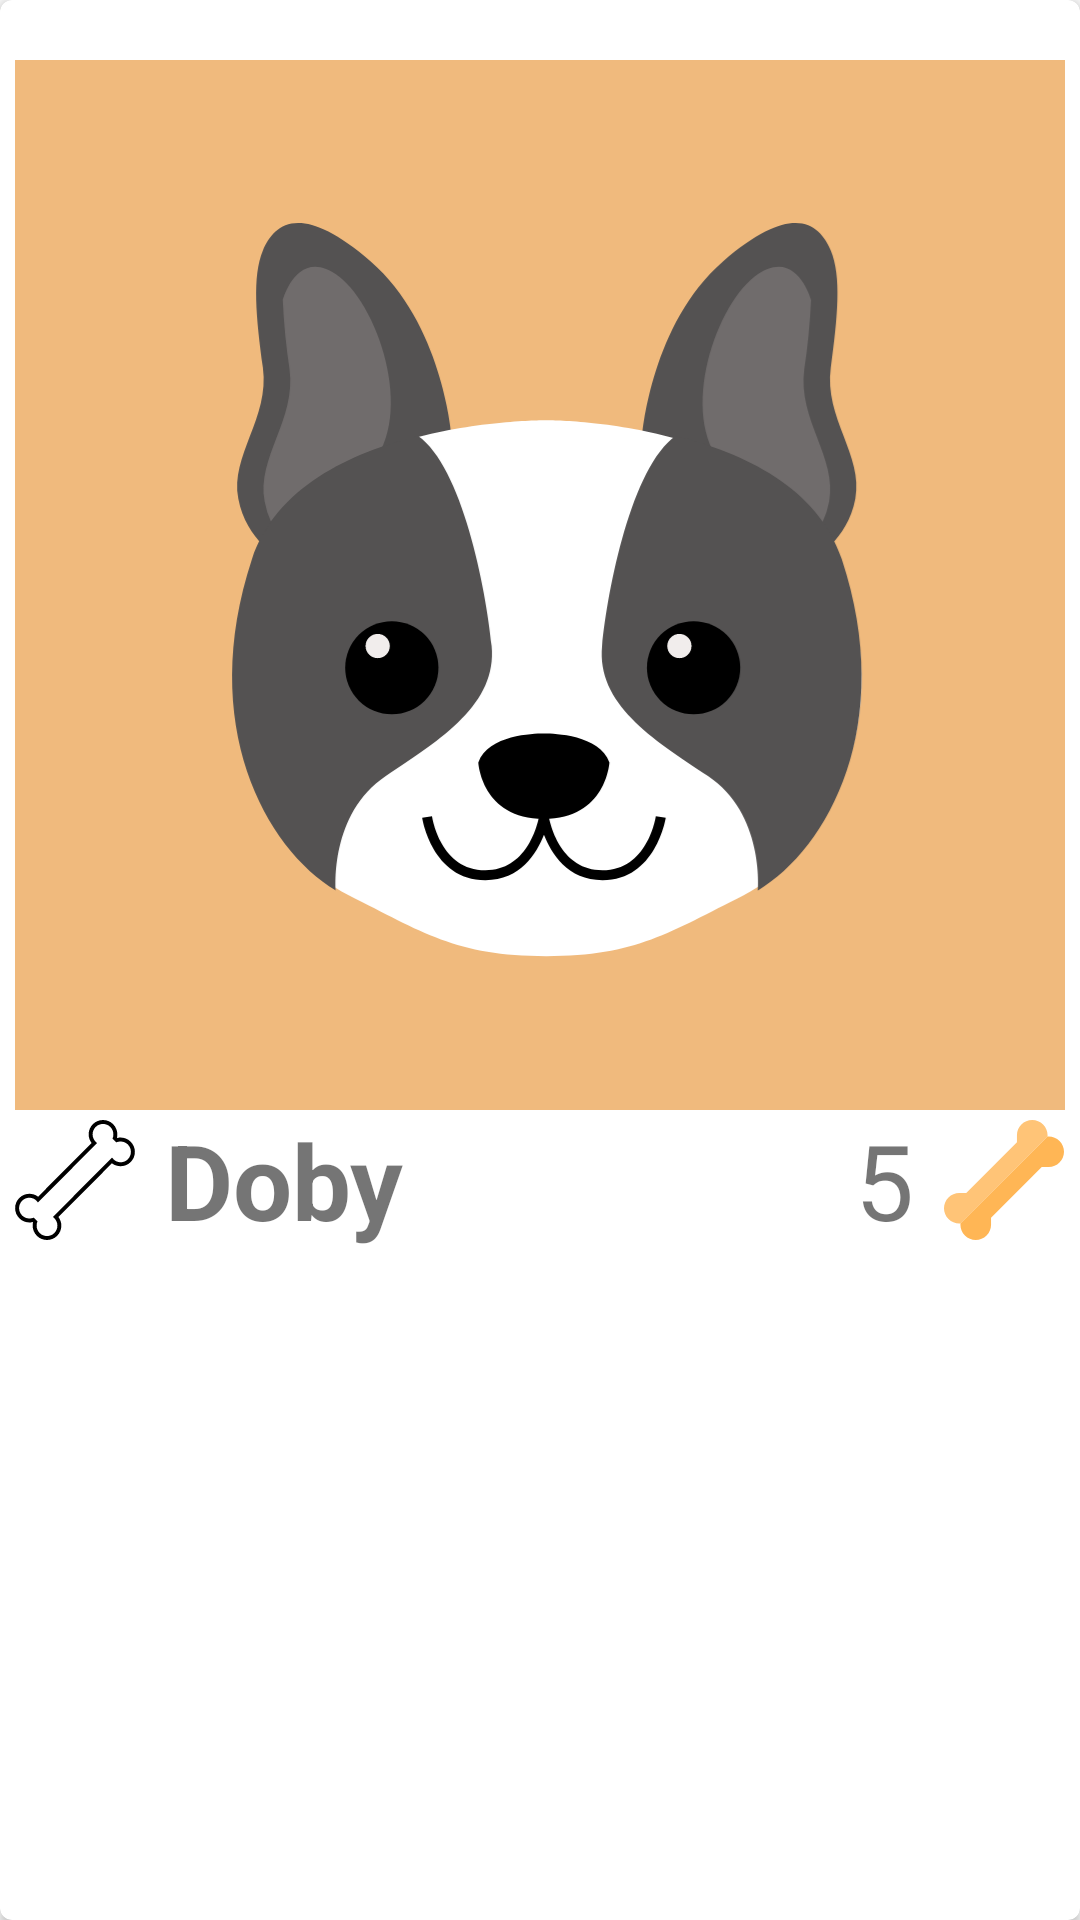

Screen size 1080×1920. Icon name, then its center in pixels as (x,y):
bone: (75,1180), (1004,1180)
